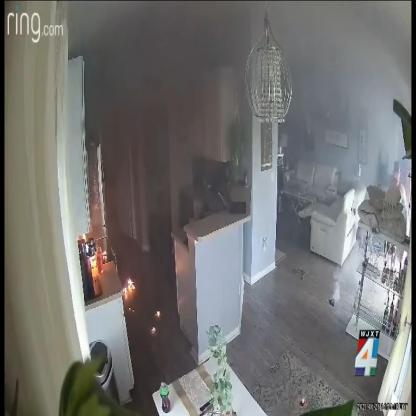fire: (123, 278, 135, 295), (155, 311, 160, 317), (151, 326, 155, 332)
